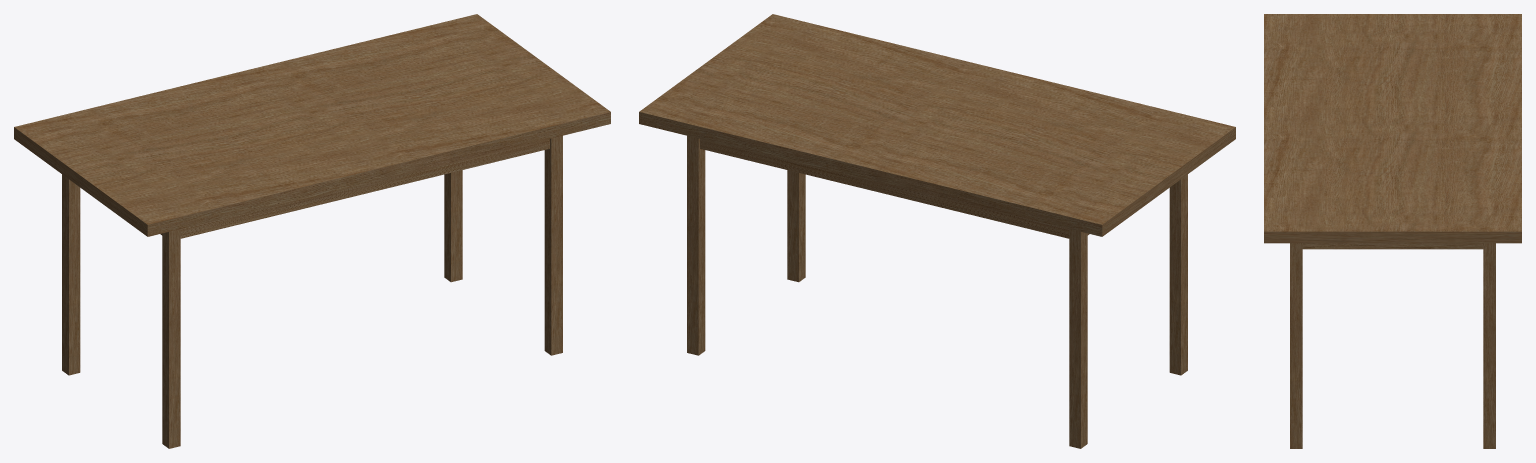
File: mesa.fbx
The picture shows the model from 3 angles, left to right: view 1: azimuth 30°, elevation 25°; view 2: azimuth 150°, elevation 25°; view 3: azimuth 270°, elevation 25°; orthographic projection. The views are drawn at different scales.
Parts seen in each view (by area): view 1: Cubo.007; view 2: Cubo.007; view 3: Cubo.007.
Boxes of the visible parts, x1,y1,x2,y2 form: Cubo.007: [14, 14, 610, 448]; Cubo.007: [639, 14, 1235, 448]; Cubo.007: [1264, 14, 1521, 448].
Size of the model in its own units: 400 by 200 by 200.
